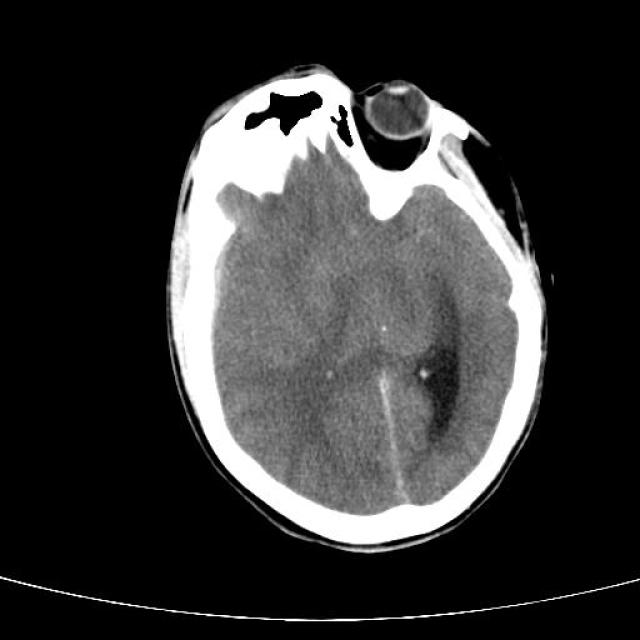Subdural: (172, 171, 266, 354)
